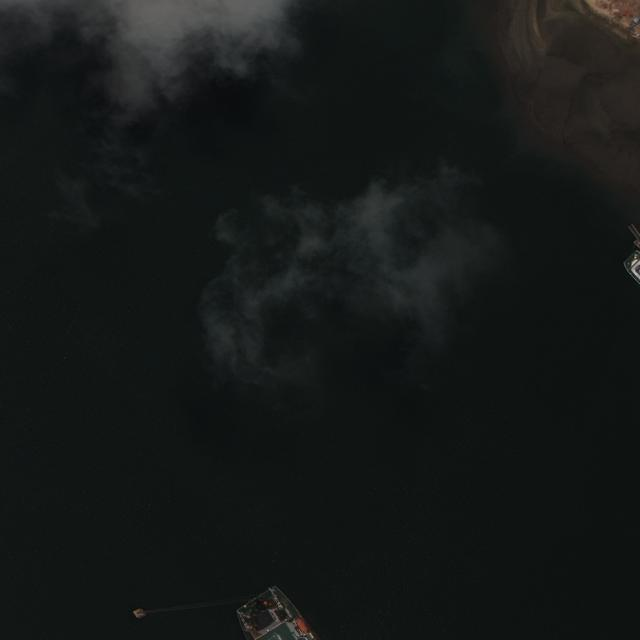Oil Tanker: (231, 586, 319, 640)
Other Ship: (618, 254, 640, 286)
